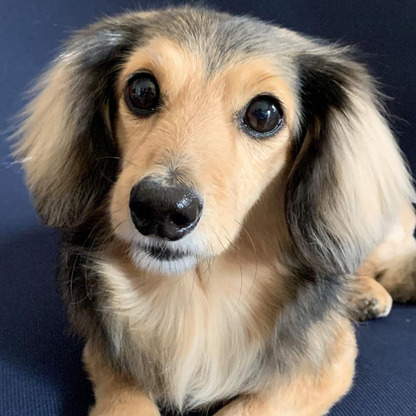dachshund: (51, 21, 386, 396)
